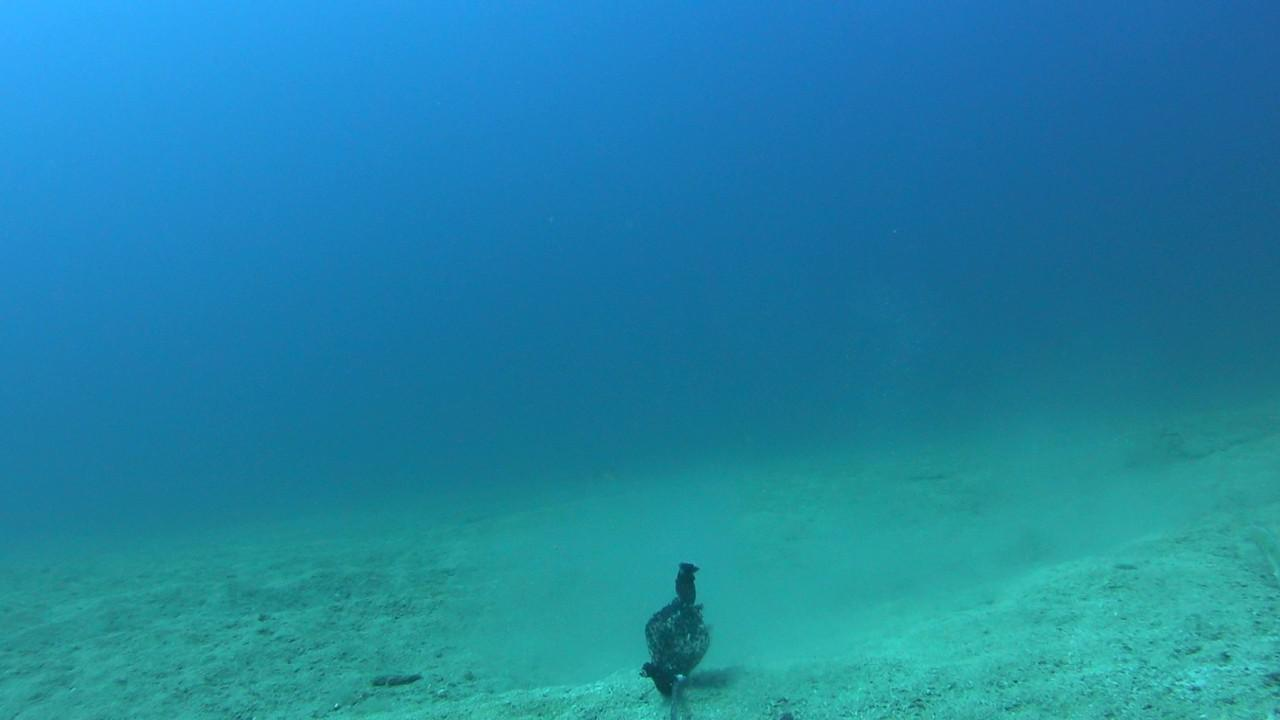myliobatis: (565, 447, 647, 499)
